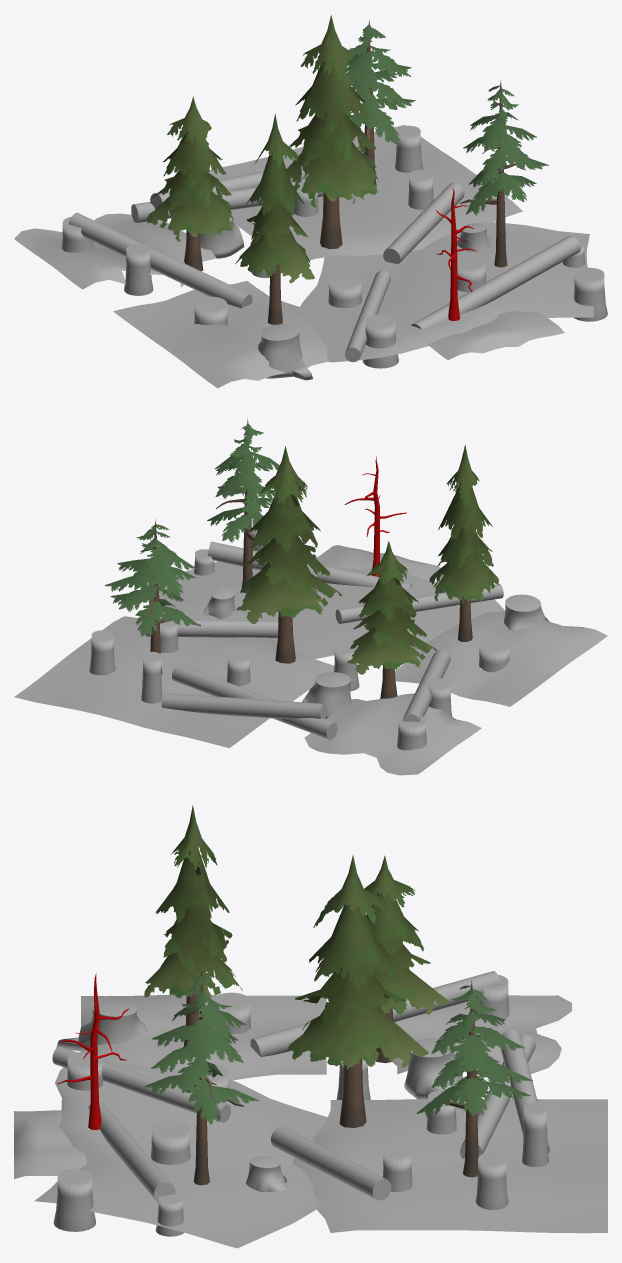
Rendered from smForestFenceTile2.fbx.
3 renders of one model, top to bottom at view 1: azimuth 30°, elevation 25°; view 2: azimuth 150°, elevation 25°; view 3: azimuth 270°, elevation 25°, orthographic. The views are drawn at different scales.
Parts seen in each view (by area): view 1: smForestFenceTile; view 2: smForestFenceTile; view 3: smForestFenceTile.
Boxes of the visible parts, x1,y1,x2,y2 form: smForestFenceTile: (14, 15, 607, 388); smForestFenceTile: (14, 418, 607, 775); smForestFenceTile: (14, 805, 607, 1248).
Size of the model in its own units: 94.77 by 52.17 by 94.86.
